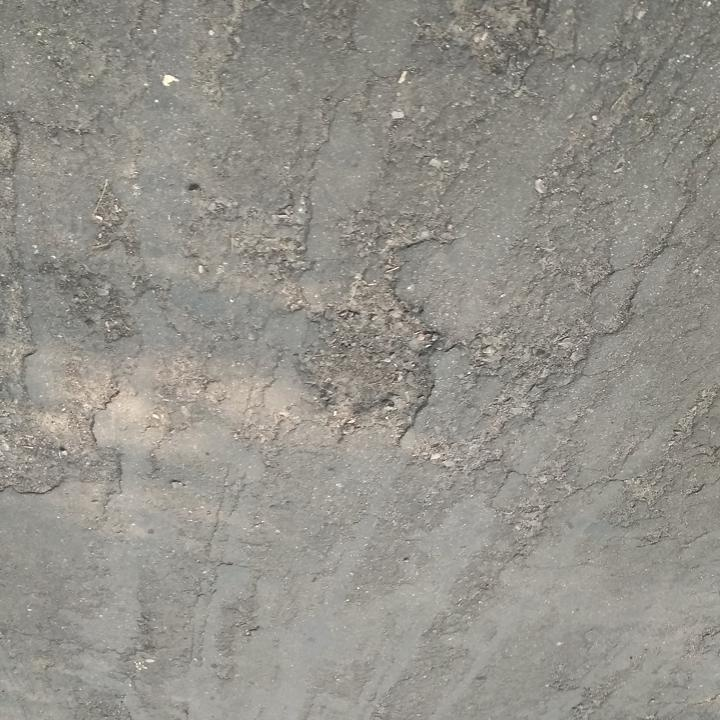pothole: (283, 278, 442, 434), (414, 0, 549, 74), (0, 409, 97, 505)
